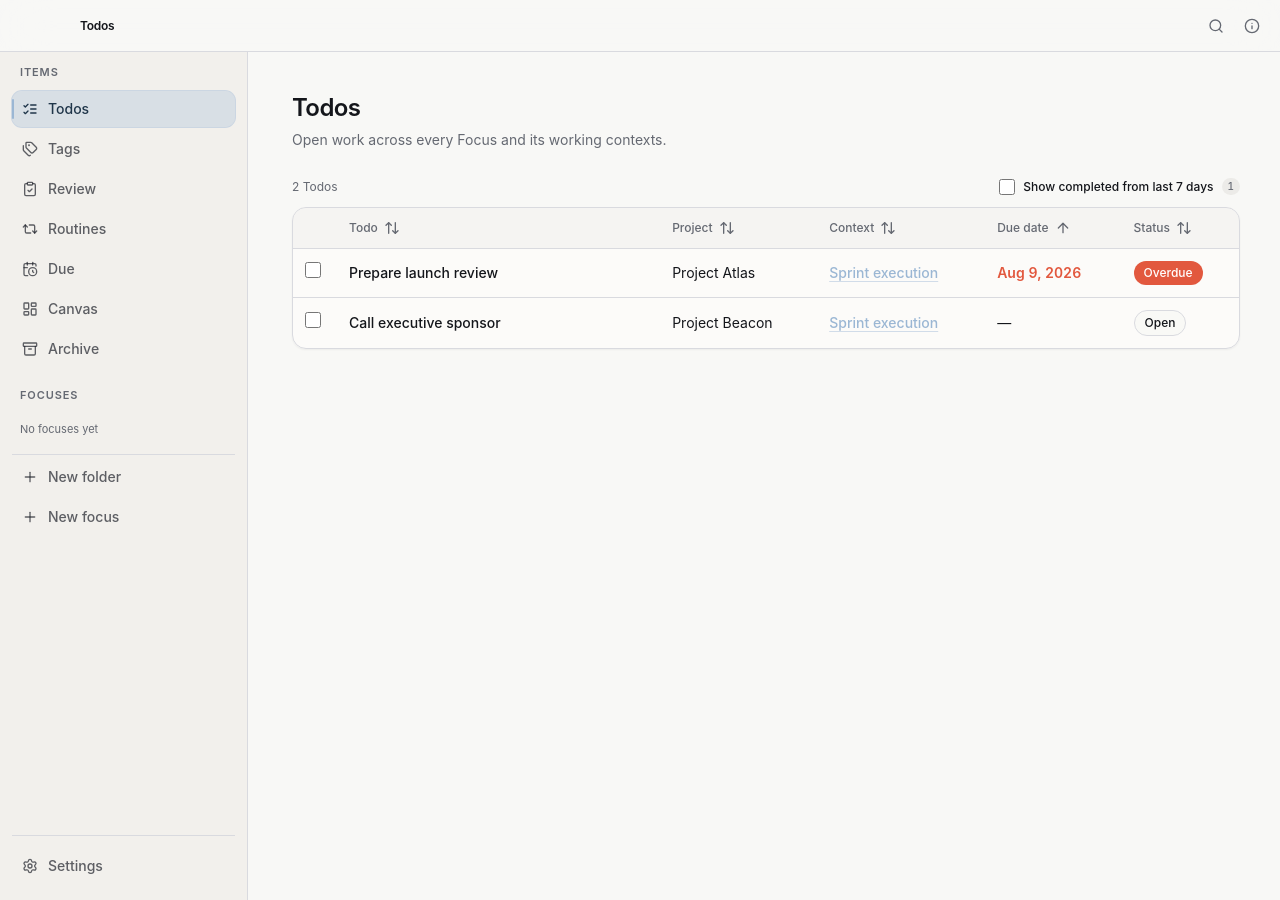
Scenario: App › sorts the global Todo table, reveals recent closures, and closes open work
Expected: the text "Prepare launch review" is shown, [337,248,660,297]
Expected: the text "Overdue" is shown, [1134,261,1203,285]
Click the button with aria-label "Sort by Project": point(703, 228) [664,212,743,244]
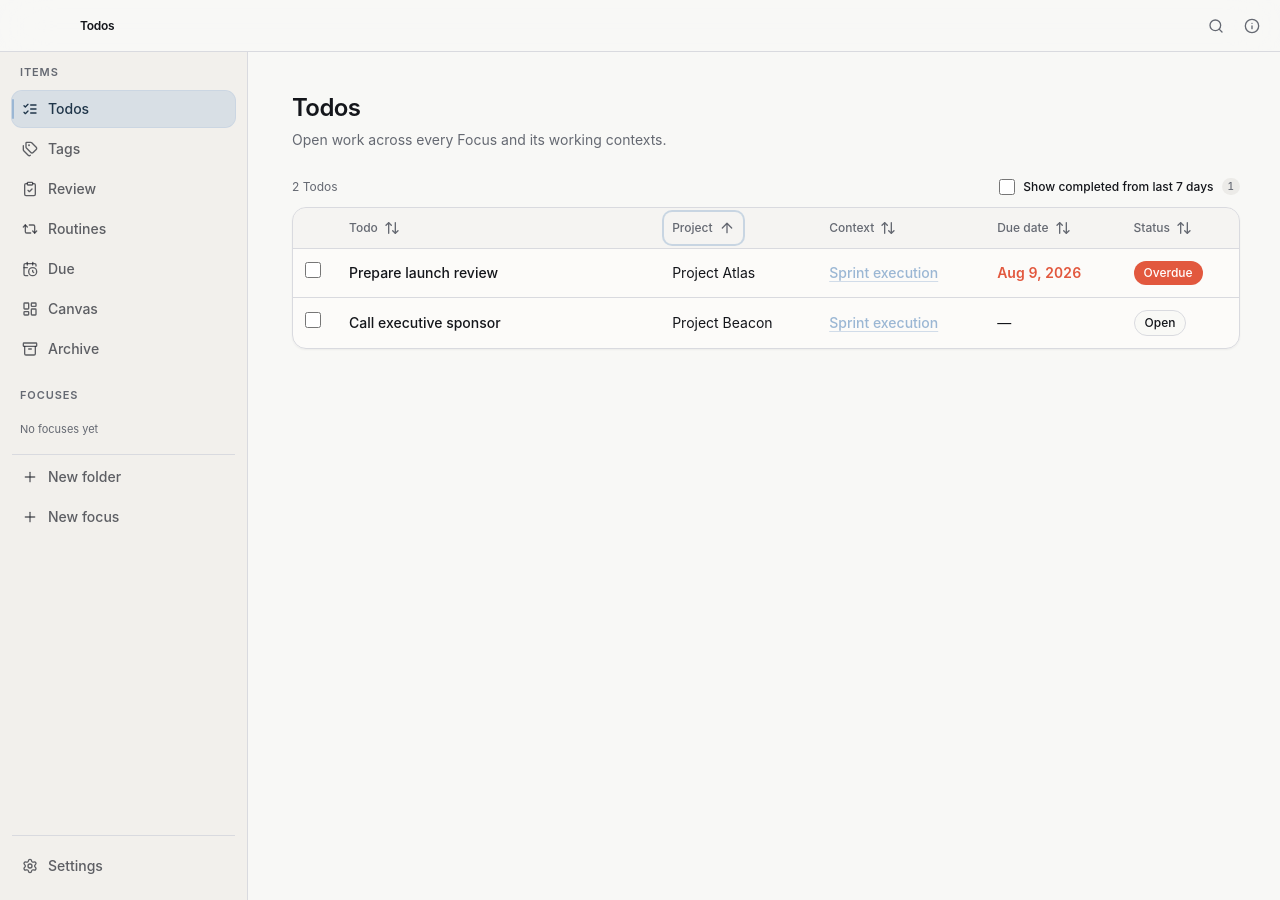
Expected: the row that starts with "Prepare launch review" shows "Project Atlas", [672,264,755,281]
Click the checkbox labelled "Show completed from last 7 days": point(1007, 187) [999,179,1015,195]
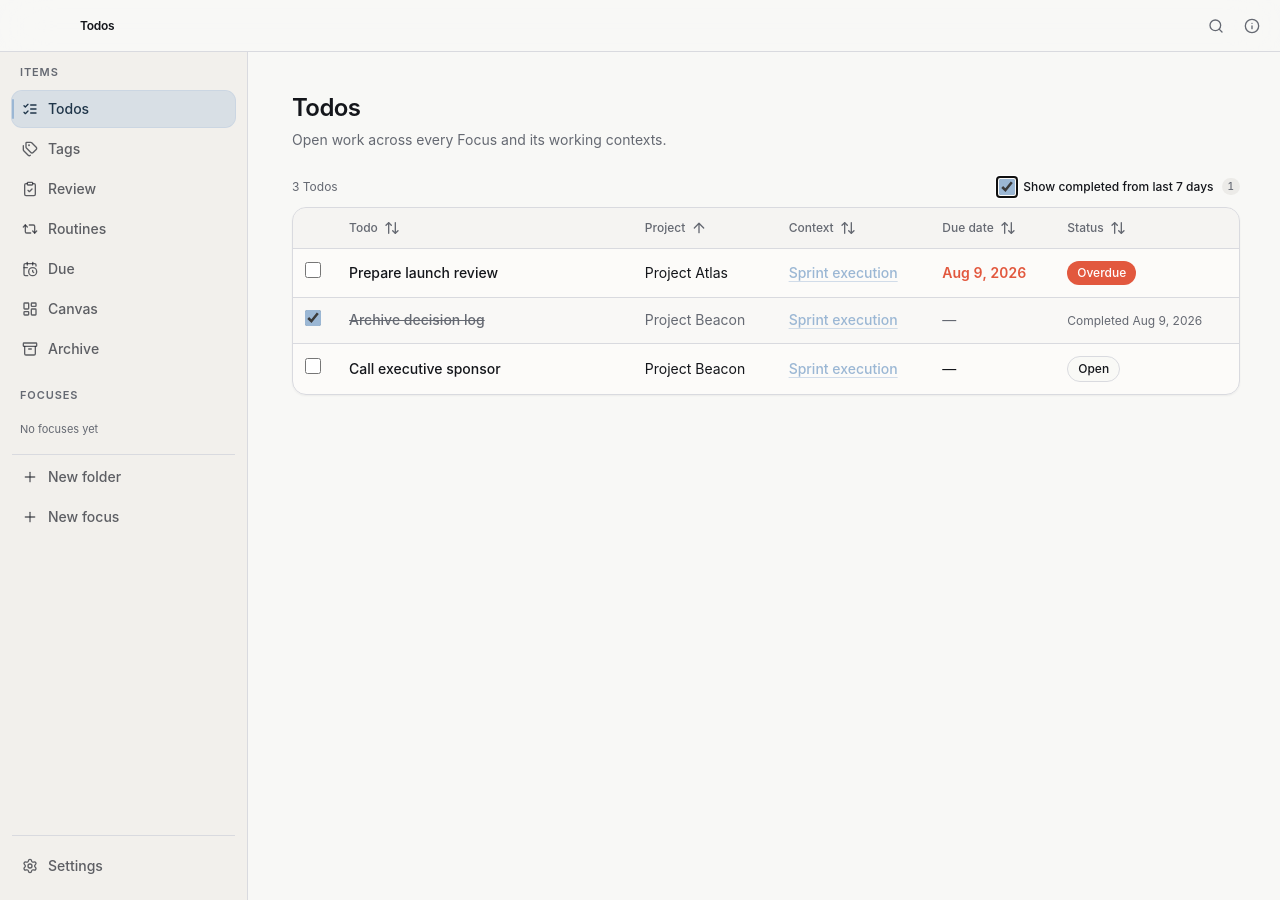
Now the text "Archive decision log" is shown, box [337,297,633,343]
Click the checkbox labelled "Show completed from last 7 days": point(1007, 187) [999,179,1015,195]
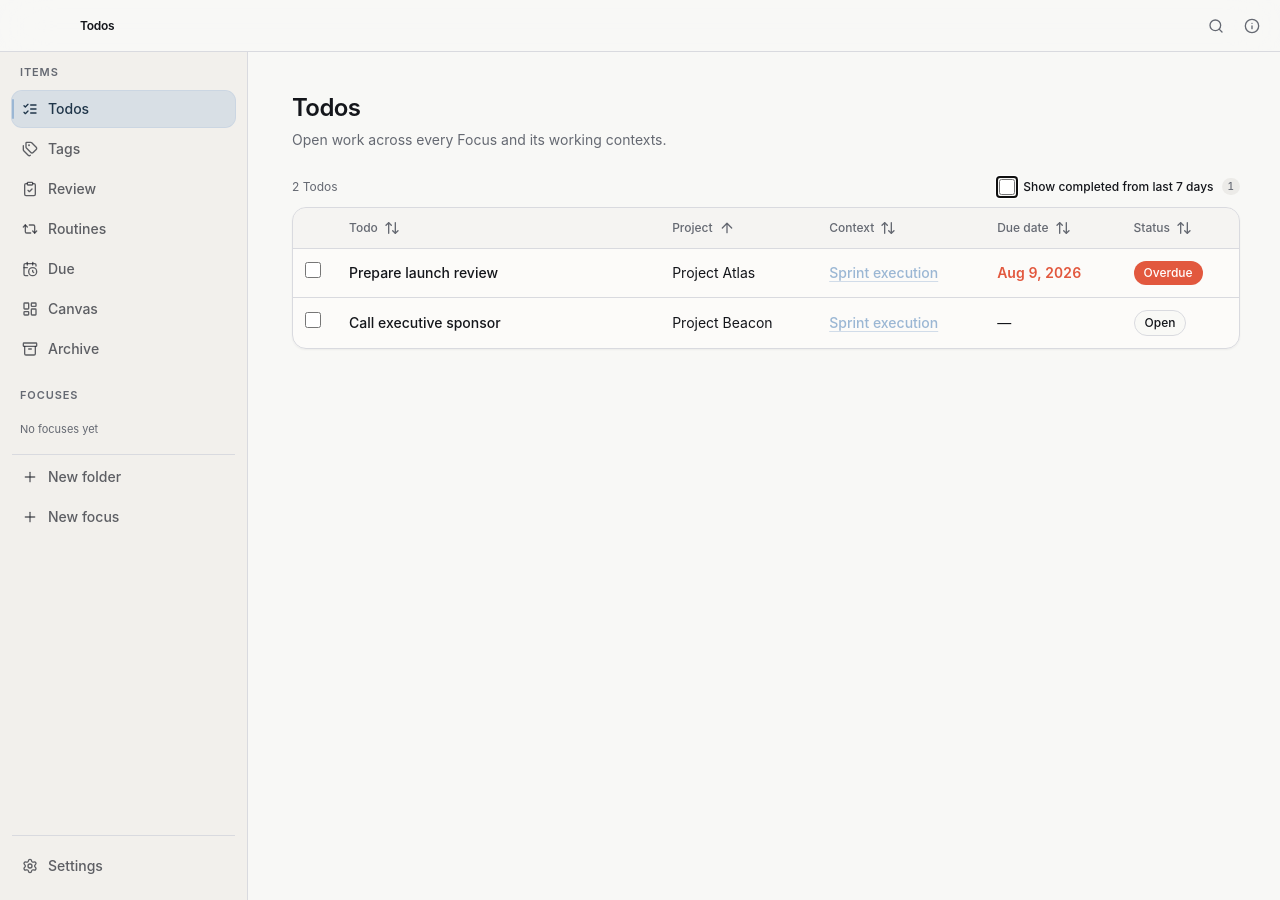
Click the checkbox named "Mark Prepare launch review done": point(313, 270) [305,262,321,278]
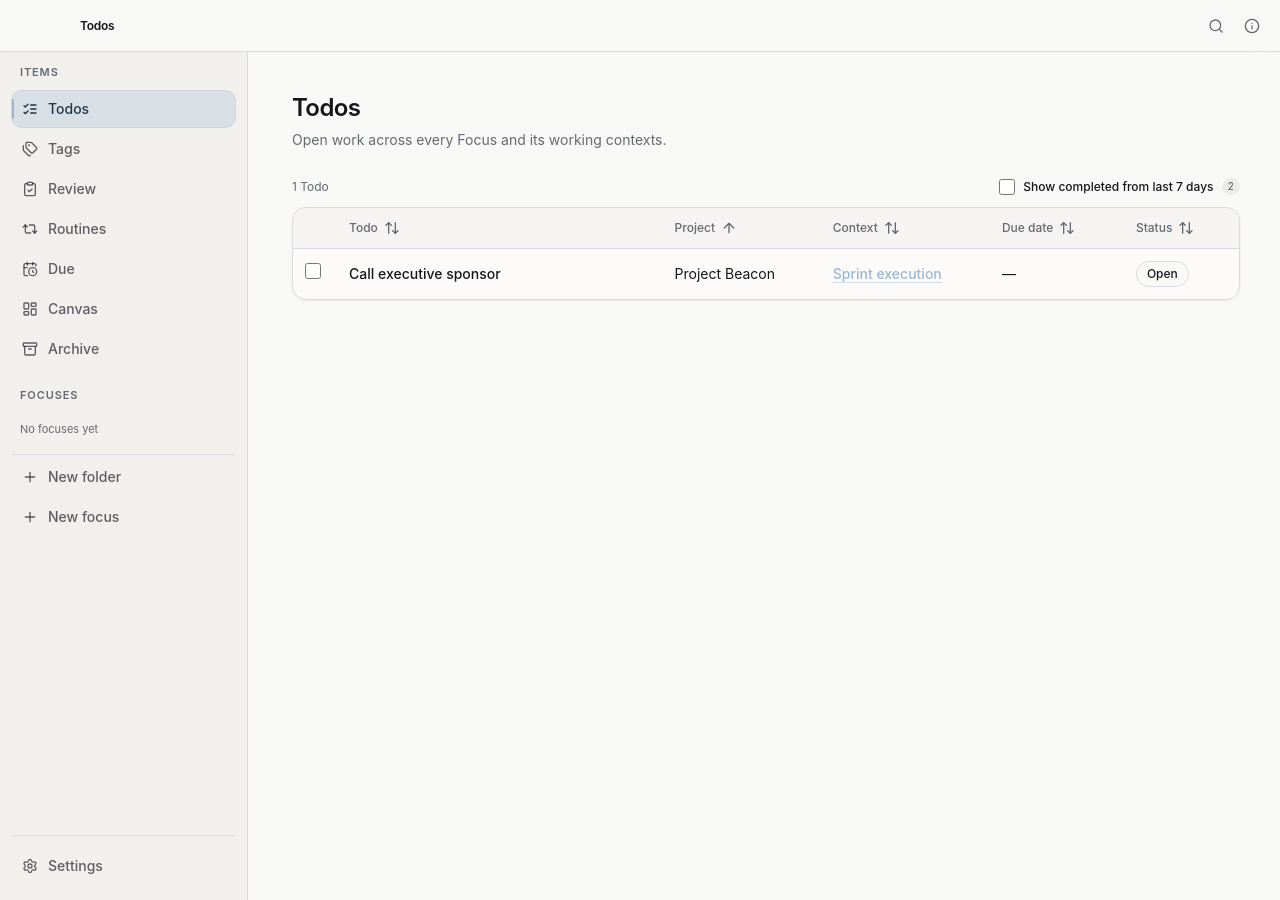
Now the text "Prepare launch review" is gone
